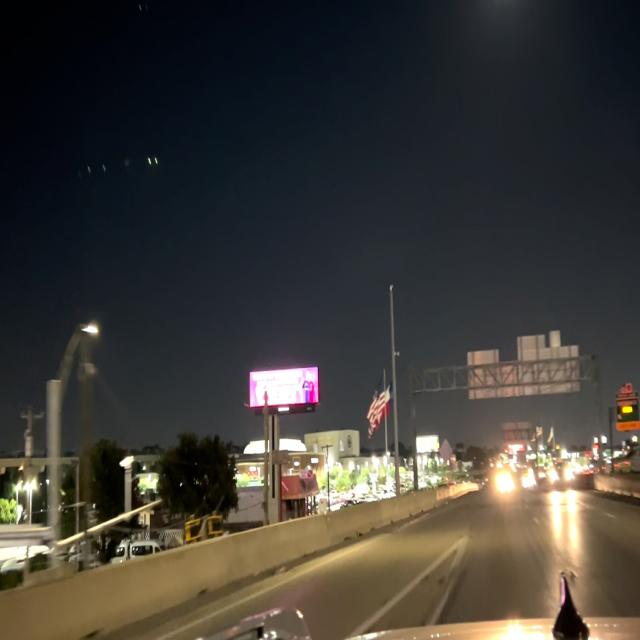back-of-sign: (465, 329, 583, 404), (500, 415, 533, 445), (437, 437, 454, 467)
